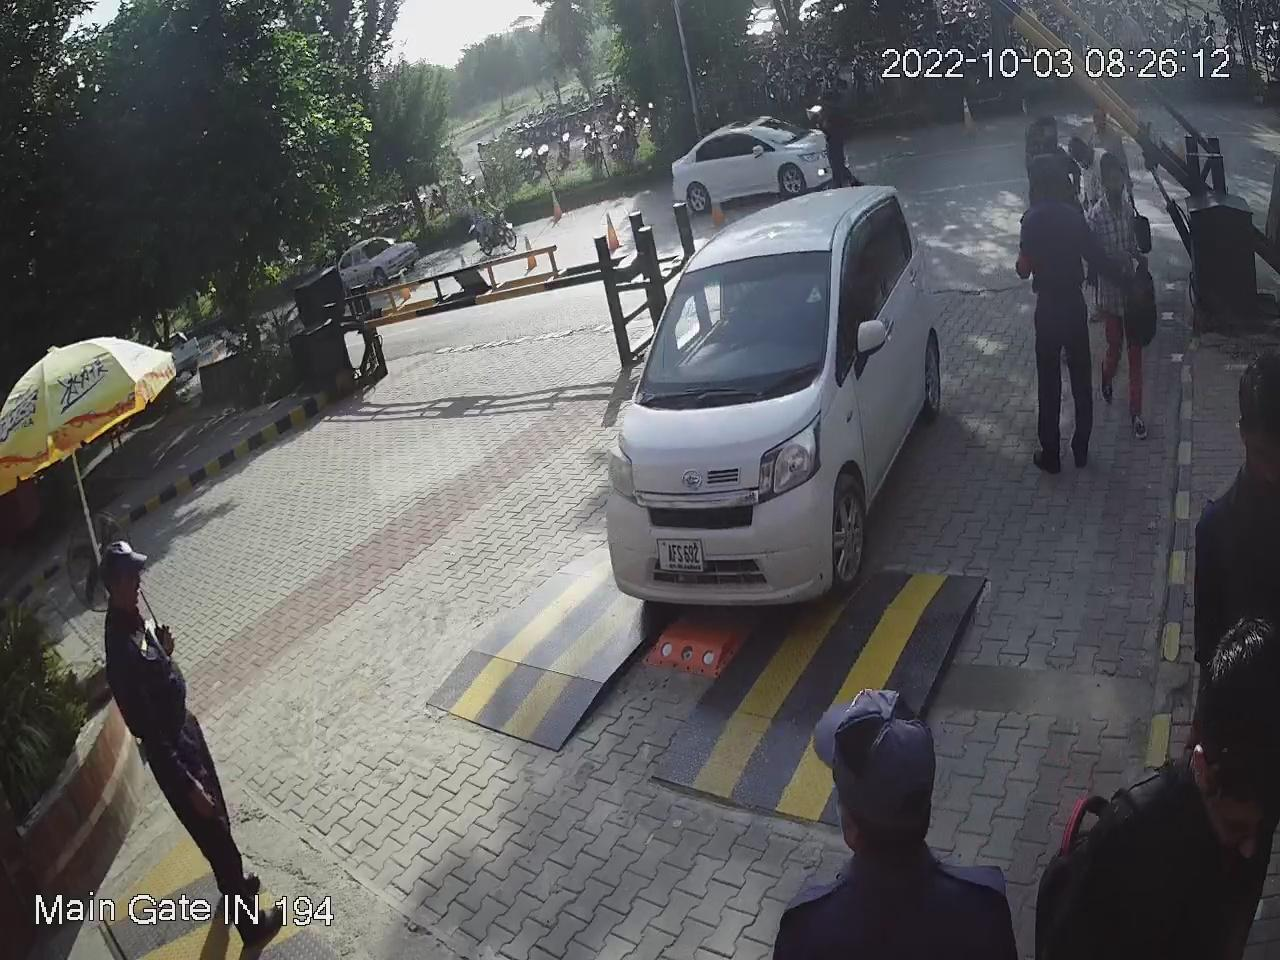windshield: (631, 242, 836, 390)
